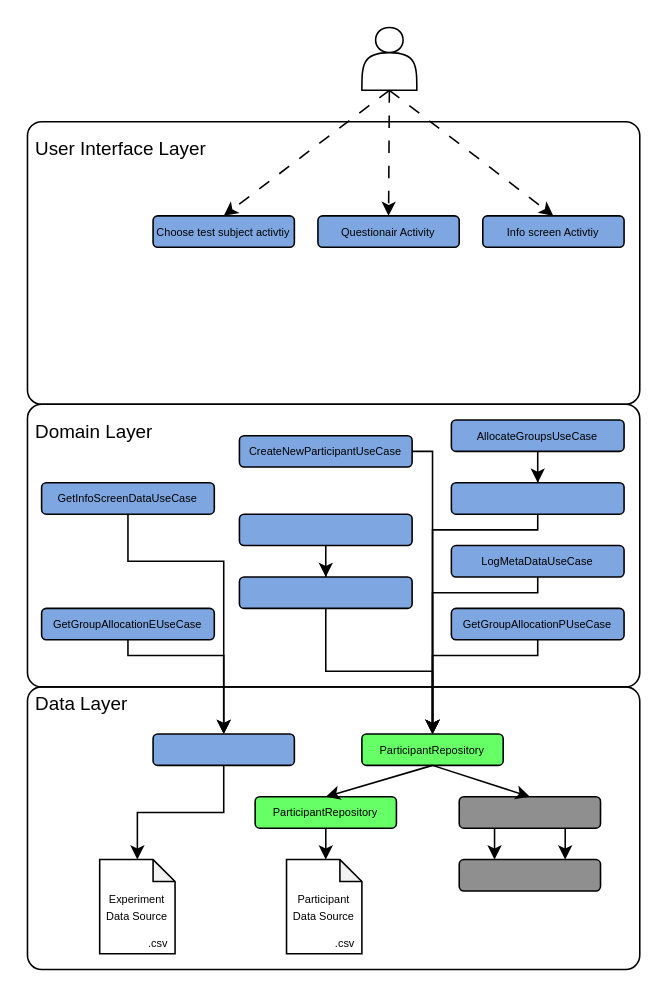
Image size: 667x997. Some labels were removed from this diagram. Each missing label, with the centre of its shape:
AllocateGroupUseCase: pixel 537 497
ExperimentRepository: pixel 223 748
GetNextDataEntryUseCase: pixel 325 529
GetParticipantDataUseCase: pixel 325 591
Other Data Source: pixel 529 874
OtherRepository: pixel 529 811
User: pixel 388 58
